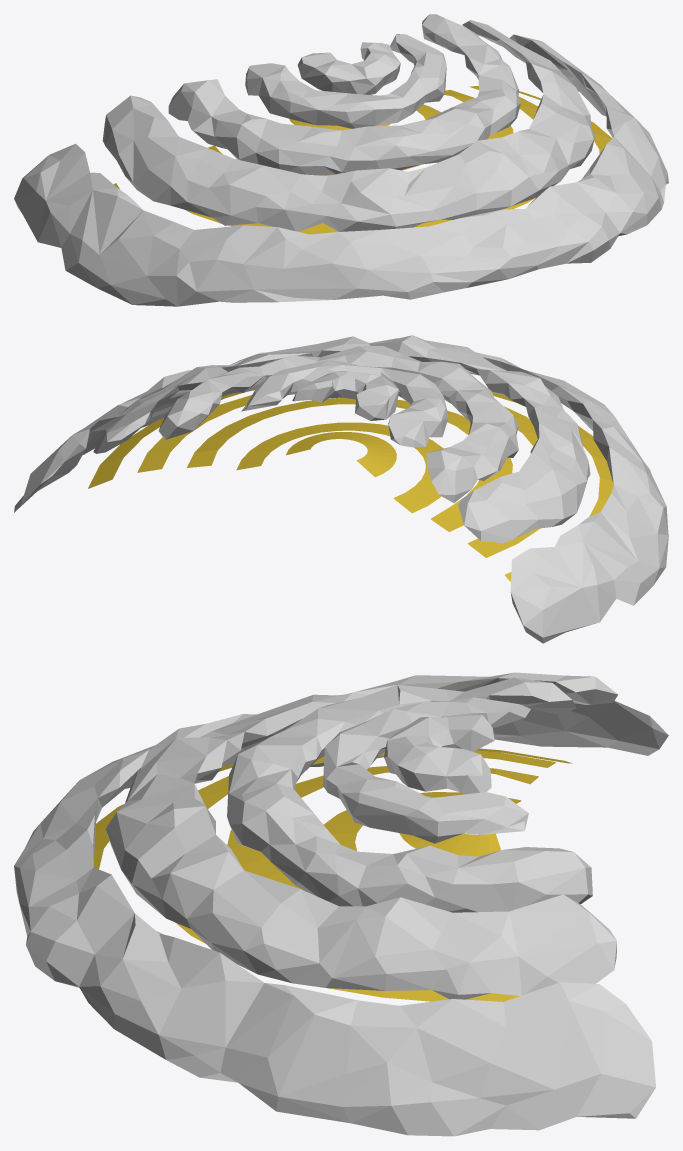
File: TLmushroom2_unity.fbx
The picture shows the model from 3 angles, top to bottom: view 1: azimuth 30°, elevation 25°; view 2: azimuth 150°, elevation 25°; view 3: azimuth 270°, elevation 25°; orthographic projection. The views are drawn at different scales.
Parts seen in each view (by area): view 1: Cone.008; view 2: Cone.008; view 3: Cone.008.
Boxes of the visible parts, x1,y1,x2,y2 form: Cone.008: (14, 14, 668, 306); Cone.008: (14, 335, 668, 643); Cone.008: (14, 672, 668, 1136).
Size of the model in its own units: 174 by 44.59 by 125.
